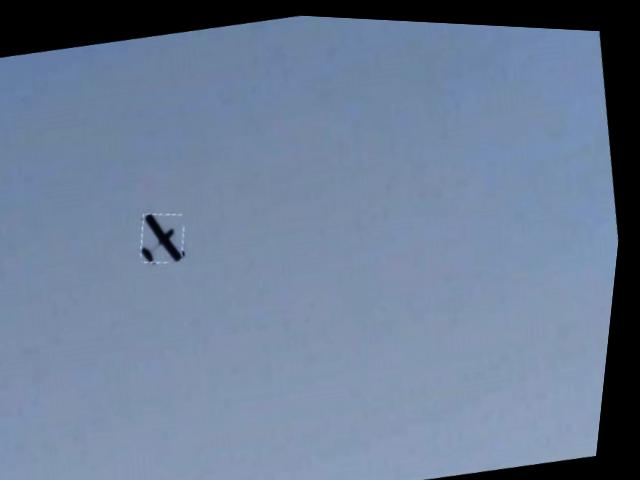insansiz-hava-araci: (139, 206, 196, 266)
